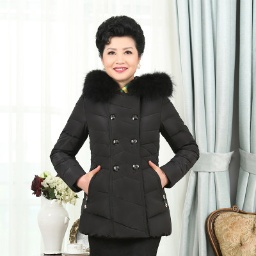face: (91, 14, 147, 84)
